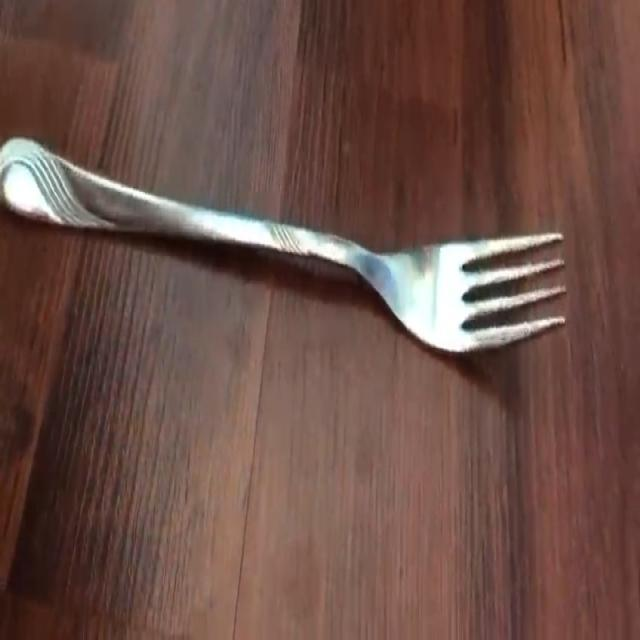spoon: (0, 139, 566, 353)
